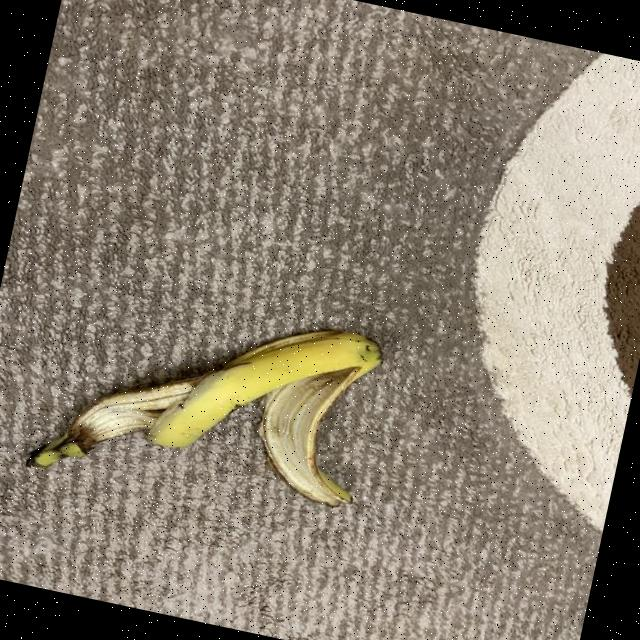banana-peel: (23, 267, 388, 535)
